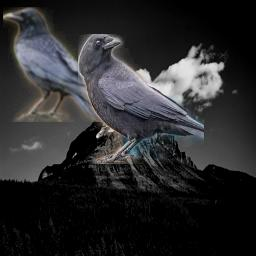Crow: (78, 34, 204, 164), (3, 7, 112, 122)
